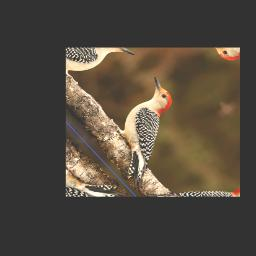Woodpecker: (79, 76, 214, 193)
